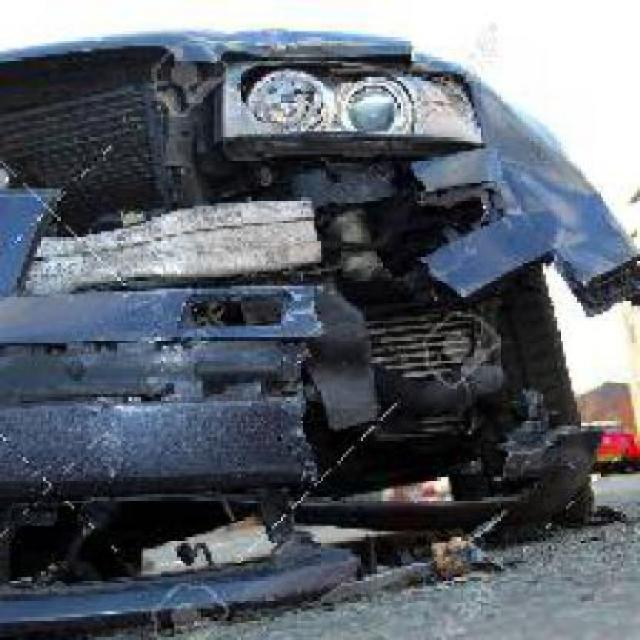damaged-front-bumper: (0, 230, 634, 515)
damaged-head-light: (209, 58, 489, 180)
